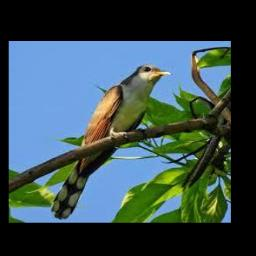Cuckoo: (50, 65, 172, 220)
